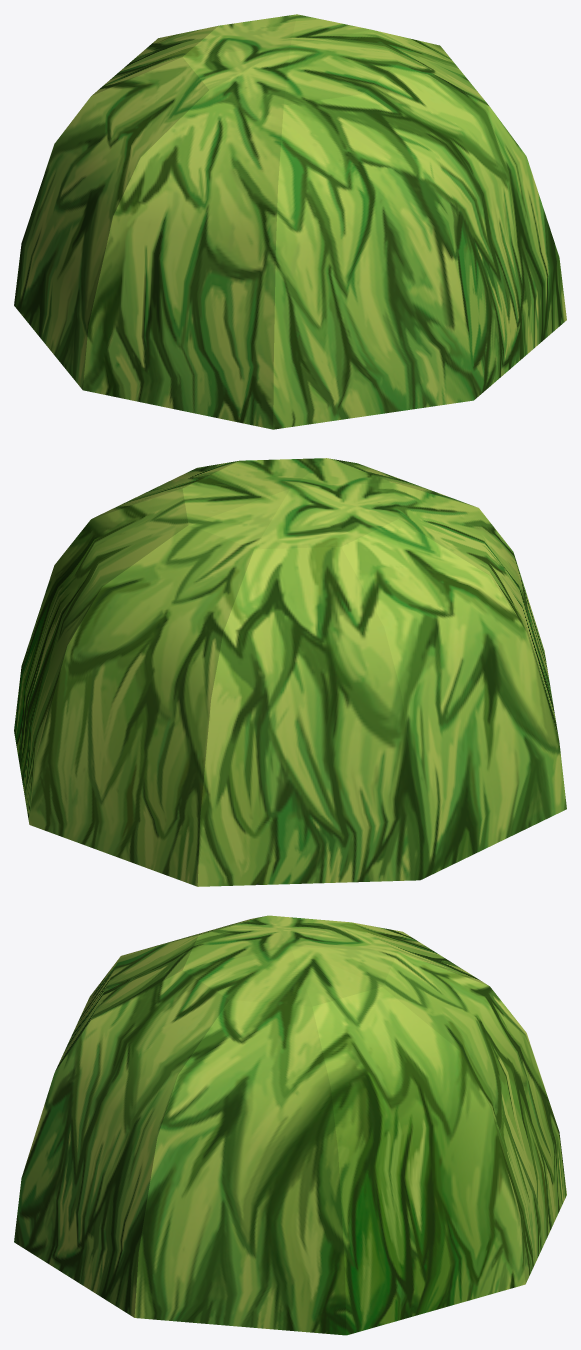
Rendered from Bush1.glb.
3 renders of one model, top to bottom at view 1: azimuth 30°, elevation 25°; view 2: azimuth 150°, elevation 25°; view 3: azimuth 270°, elevation 25°, orthographic. The views are drawn at different scales.
Parts seen in each view (by area): view 1: Bush1; view 2: Bush1; view 3: Bush1.
Part boxes in pixels (x1,y1,x2,y2): Bush1: [14, 14, 566, 429]; Bush1: [14, 458, 566, 886]; Bush1: [14, 915, 566, 1335].
Bounding box in the file's own units: 0.6668 × 0.362 × 0.6668.
Materials: 1 (1 with a texture image).
